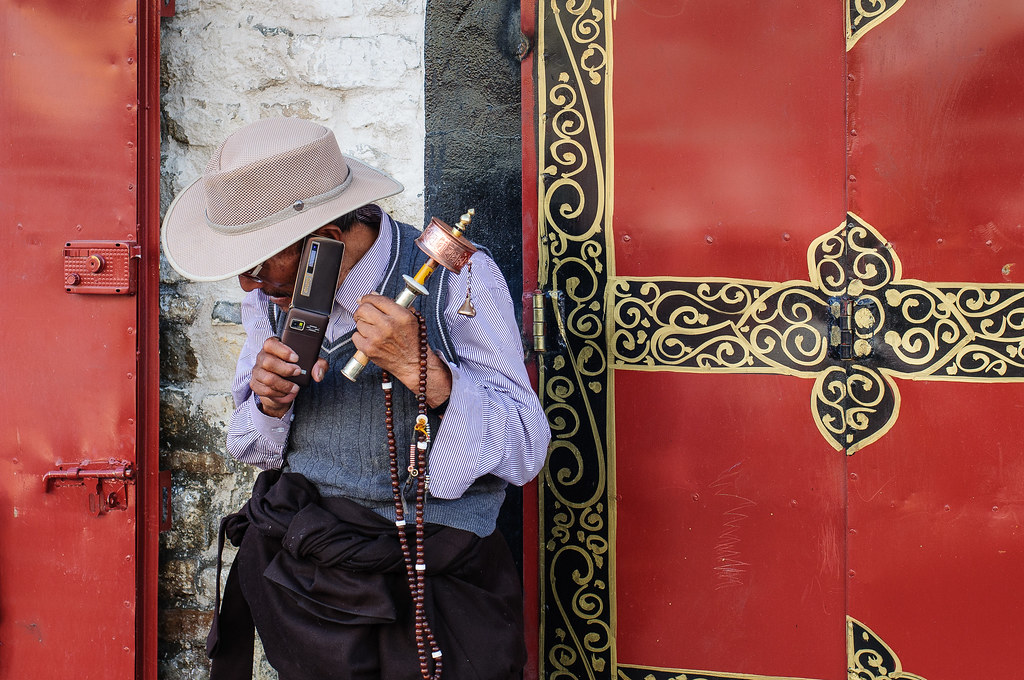phone: (287, 234, 350, 384)
